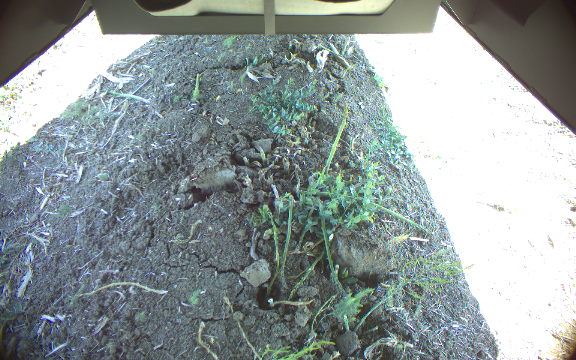aspa: (317, 96, 349, 181), (192, 72, 202, 96)
